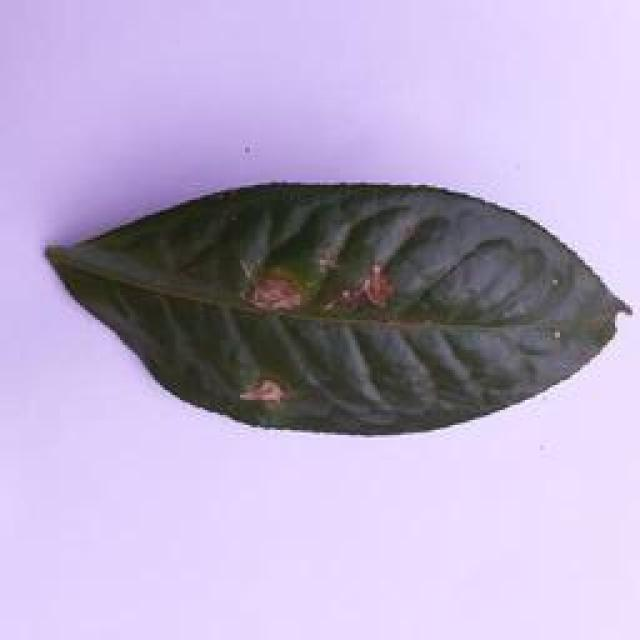Gray Blight: (35, 178, 631, 444)
